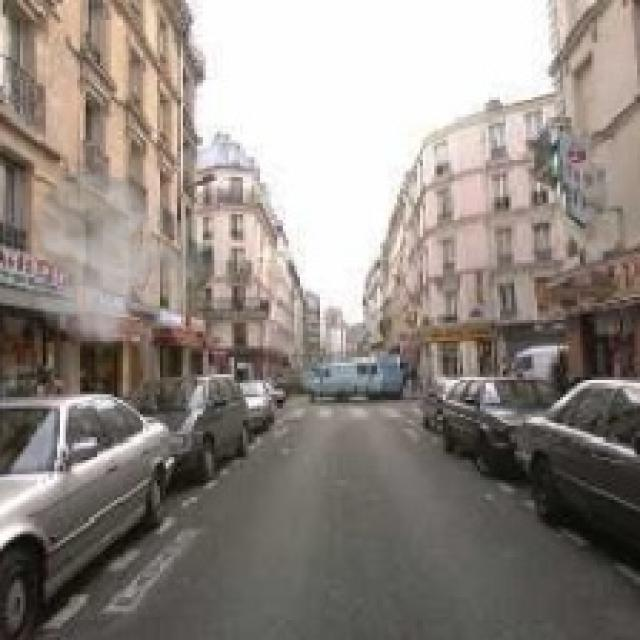smoke: (11, 152, 226, 357)
